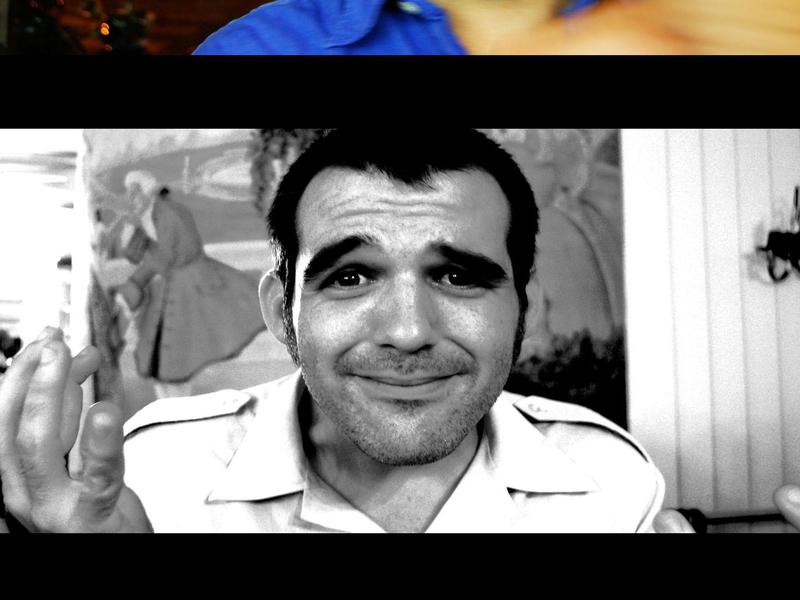person: (1, 137, 746, 534)
